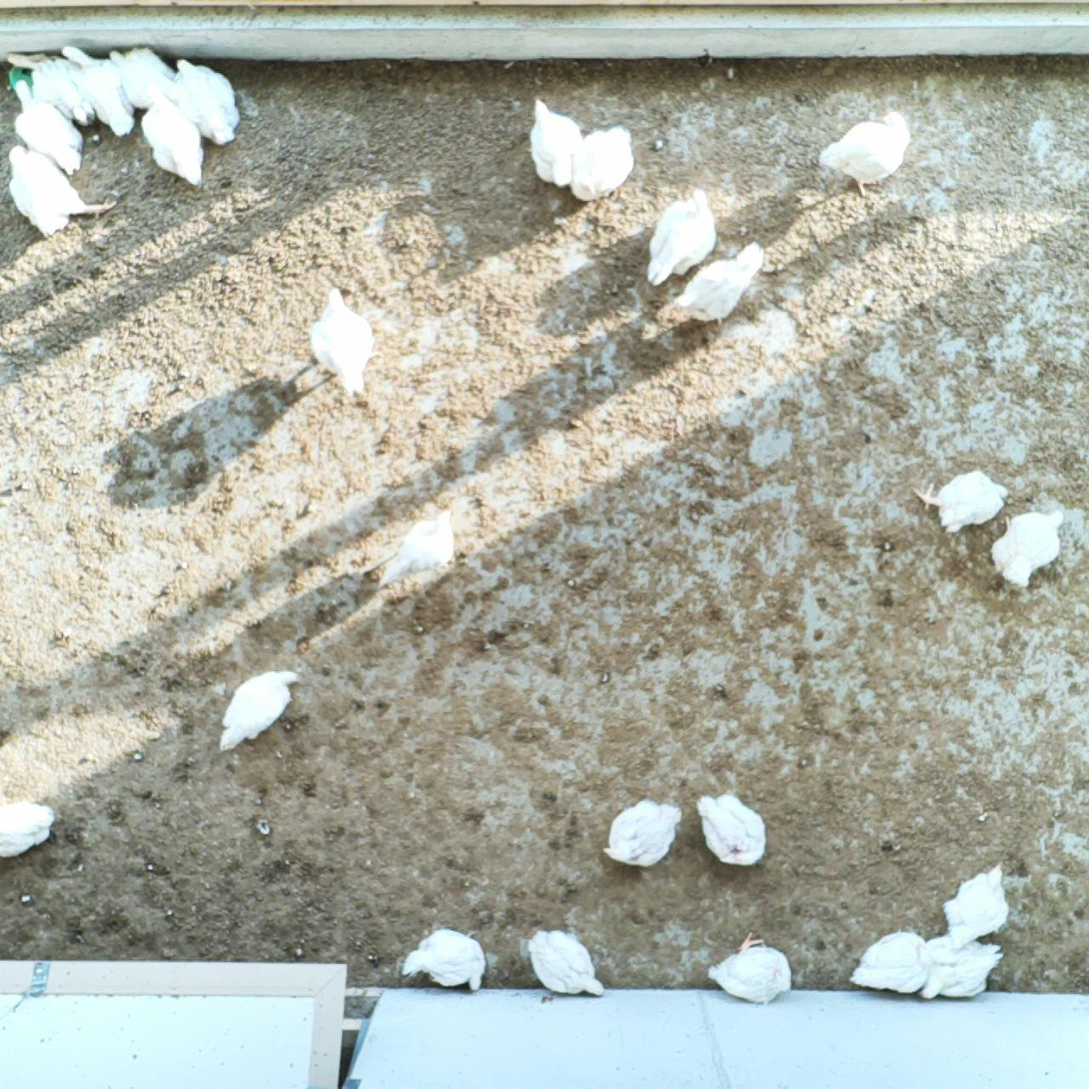chicken: (3, 139, 116, 238), (666, 238, 774, 330), (820, 107, 915, 203), (304, 284, 381, 399), (219, 663, 301, 757), (3, 47, 96, 129), (377, 503, 464, 590), (58, 43, 137, 136), (645, 187, 722, 282), (167, 51, 241, 149), (12, 77, 85, 176), (704, 931, 795, 1006), (140, 95, 210, 187), (990, 505, 1065, 590), (568, 119, 638, 210), (528, 924, 608, 1001), (602, 794, 685, 868), (400, 924, 487, 994), (696, 785, 768, 869), (944, 861, 1011, 951), (852, 931, 945, 995), (917, 468, 1006, 534), (527, 97, 586, 192), (918, 934, 1000, 1002), (105, 43, 174, 112), (0, 795, 59, 860)
